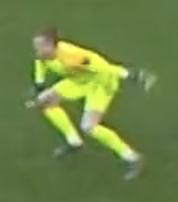goalkeeper: (16, 18, 166, 183)
